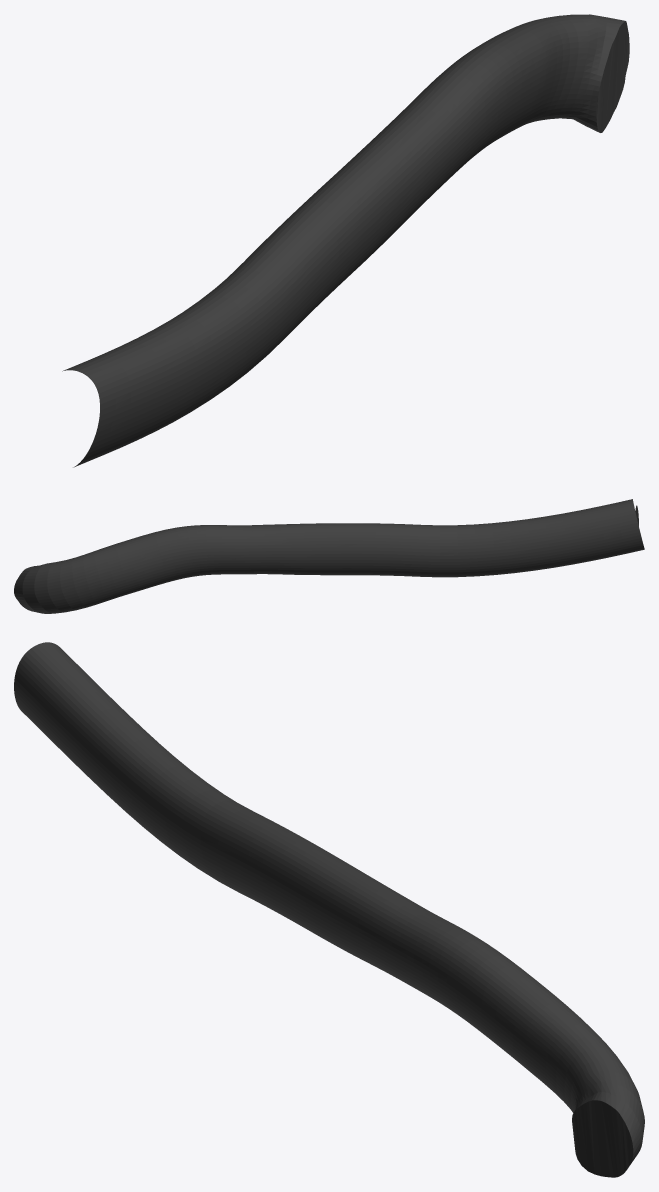
Rendered from N_3_oculomotor.glb.
The picture shows the model from 3 angles, top to bottom: view 1: azimuth 30°, elevation 25°; view 2: azimuth 150°, elevation 25°; view 3: azimuth 270°, elevation 25°; orthographic projection. The views are drawn at different scales.
Visible parts, largest first — view 1: N_3_oculomotor; view 2: N_3_oculomotor; view 3: N_3_oculomotor.
Boxes of the visible parts, box(x1,y1,x2,y2) form: N_3_oculomotor: box(62, 14, 629, 467); N_3_oculomotor: box(14, 499, 644, 613); N_3_oculomotor: box(14, 642, 644, 1177).
Size of the model in its own units: 0.0103 by 0.0021 by 0.00697.
Materials: 1 (1 with a texture image).
